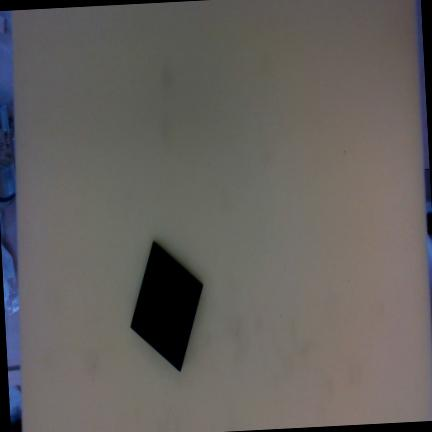tile: (122, 240, 210, 372)
